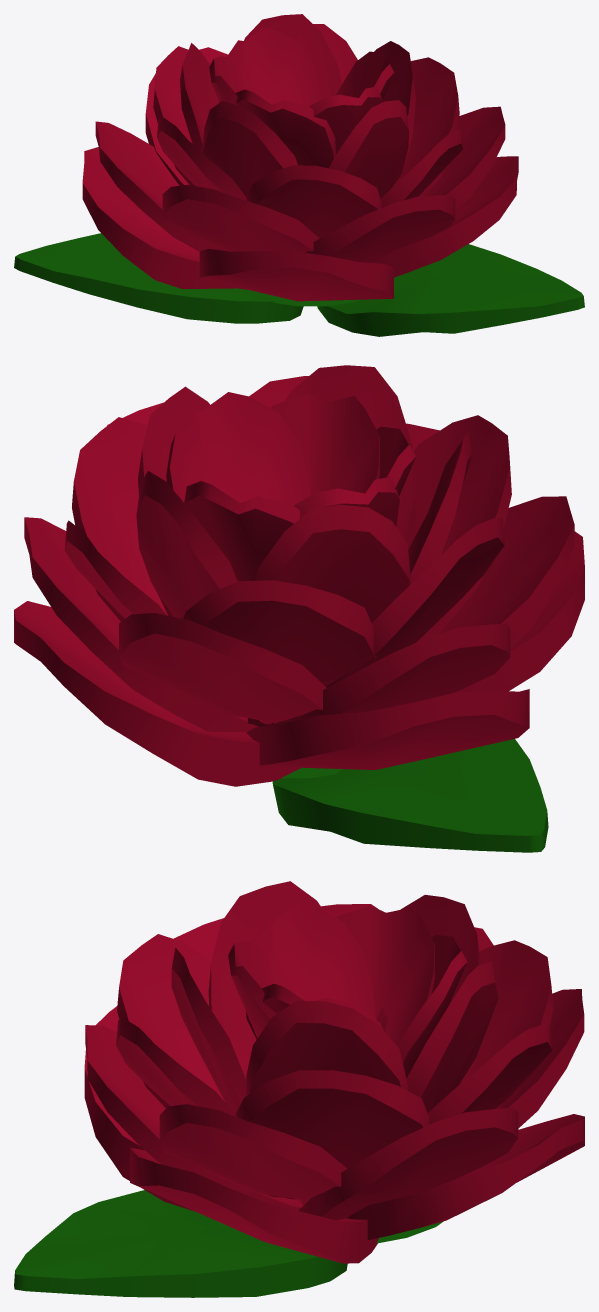
Rendered from rose01.fbx.
3 views of the same model, one above another, from view 1: azimuth 30°, elevation 25°; view 2: azimuth 150°, elevation 25°; view 3: azimuth 270°, elevation 25° (orthographic). The views are drawn at different scales.
Visible parts, largest first — view 1: rose; view 2: rose; view 3: rose.
Boxes of the visible parts, x1,y1,x2,y2 form: rose: [14, 14, 584, 336]; rose: [14, 365, 584, 852]; rose: [14, 881, 584, 1297].
Size of the model in its own units: 1.86 by 1.02 by 1.76.
